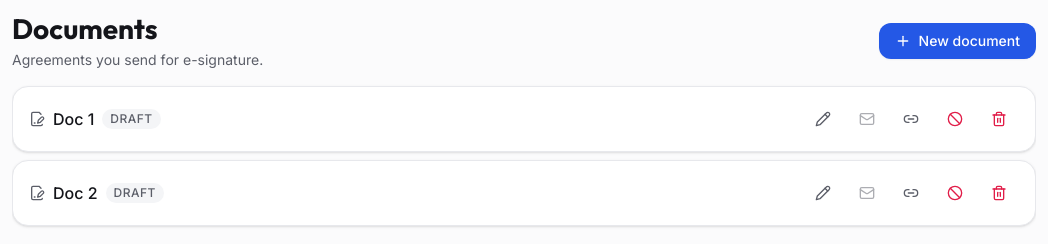
DocumentsPage › deleting one document disables only that document's Delete button
Expected: the text "Doc 1" is shown, [53,107,94,131]
What coordinates should you click on to do the following:
click the button titled "Delete" in the row of "Doc 1"
I would click on:
 (999, 119)
Its box is [979,103,1019,135].
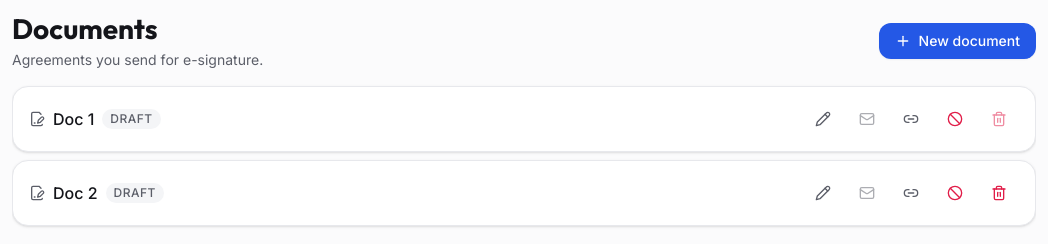
Expected: the button titled "Delete" in the row of "Doc 2" is enabled, [979,177,1019,209]
Now the button titled "Delete" in the row of "Doc 1" is disabled, box [979,103,1019,135]
